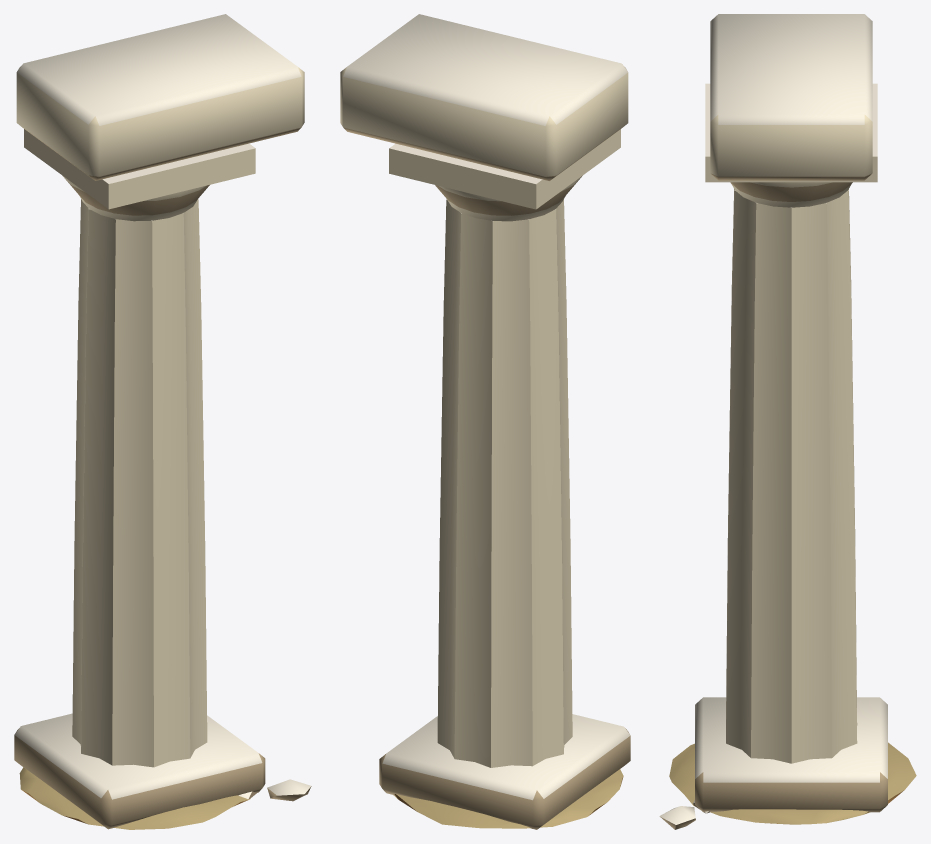
The model's file is DoricColumn.fbx.
3 renders of one model, left to right at view 1: azimuth 30°, elevation 25°; view 2: azimuth 150°, elevation 25°; view 3: azimuth 270°, elevation 25°, orthographic.
Visible parts, largest first — view 1: DoricColumn; view 2: DoricColumn; view 3: DoricColumn.
Part boxes in pixels (x1,y1,x2,y2): DoricColumn: (14, 14, 311, 829); DoricColumn: (340, 14, 630, 829); DoricColumn: (659, 14, 916, 829).
Bounding box in the file's own units: 1.33 × 3.92 × 1.27.
1 material, 1 textured.
